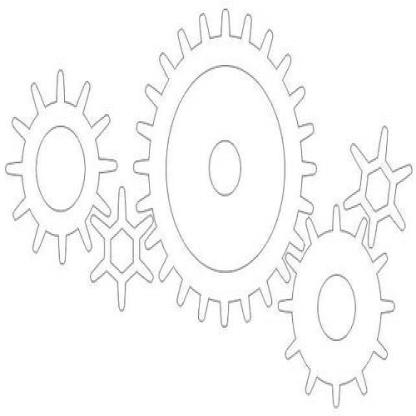FOD: (132, 3, 320, 329)
